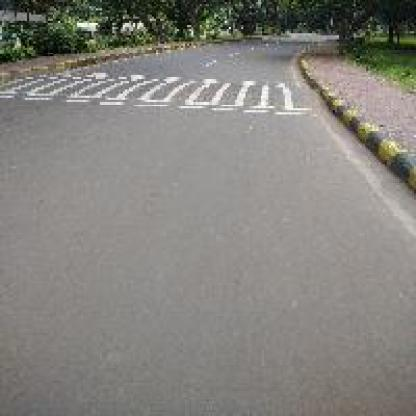Speed Bump: (4, 73, 310, 116)
